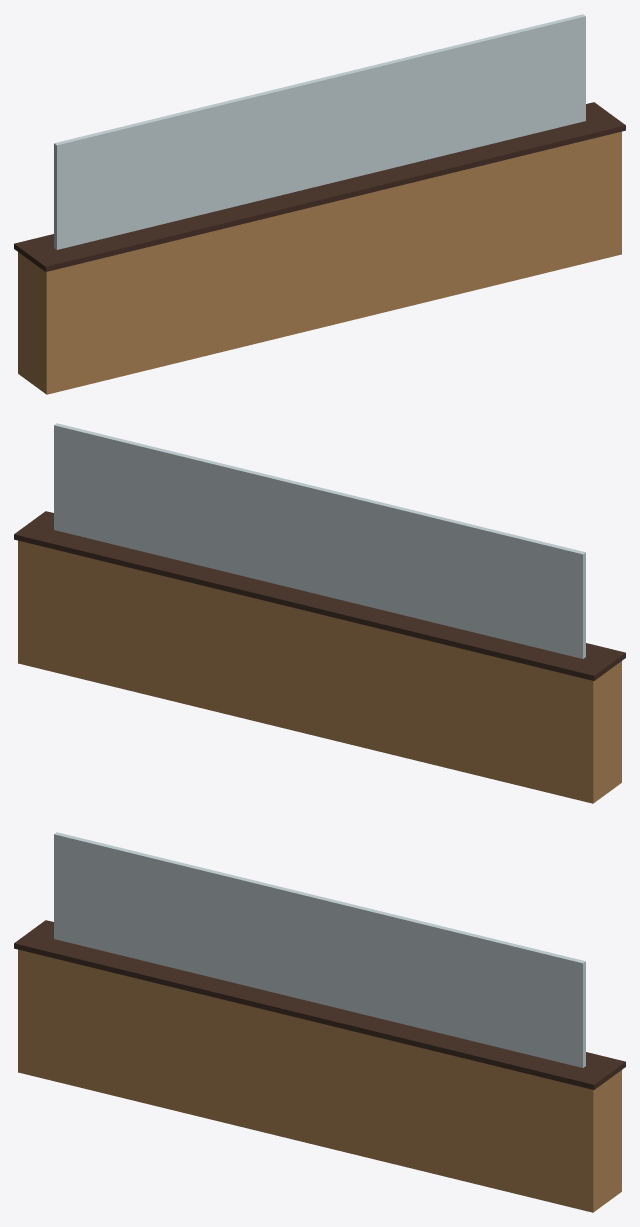
3 views of the same model, one above another, from view 1: azimuth 30°, elevation 25°; view 2: azimuth 150°, elevation 25°; view 3: azimuth 330°, elevation 25° (orthographic).
Parts seen in each view (by area): view 1: isla_snor; view 2: isla_snor; view 3: isla_snor.
Boxes of the visible parts, bbox=[...] form: isla_snor: bbox=[14, 14, 625, 394]; isla_snor: bbox=[14, 423, 625, 803]; isla_snor: bbox=[14, 832, 625, 1212].
Size of the model in its own units: 4.64 by 0.44 by 1.79.
